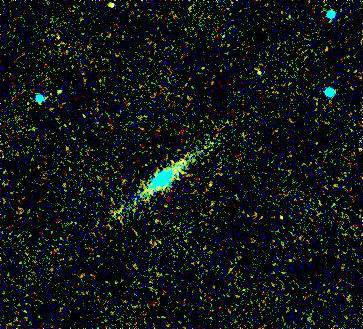star: (98, 0, 128, 24)
